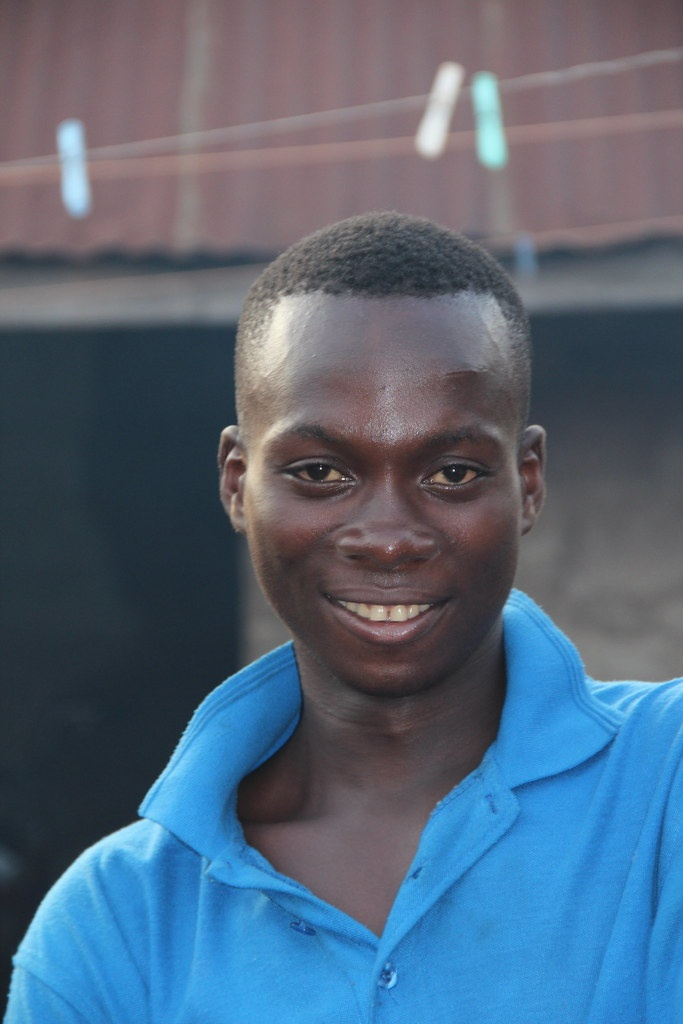without_mask: (203, 296, 555, 680)
